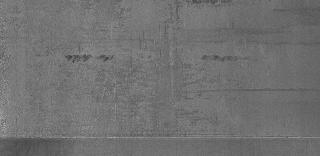rolled pit: (199, 51, 259, 65), (184, 0, 240, 10), (62, 54, 114, 64)
welding line: (1, 132, 320, 144)
